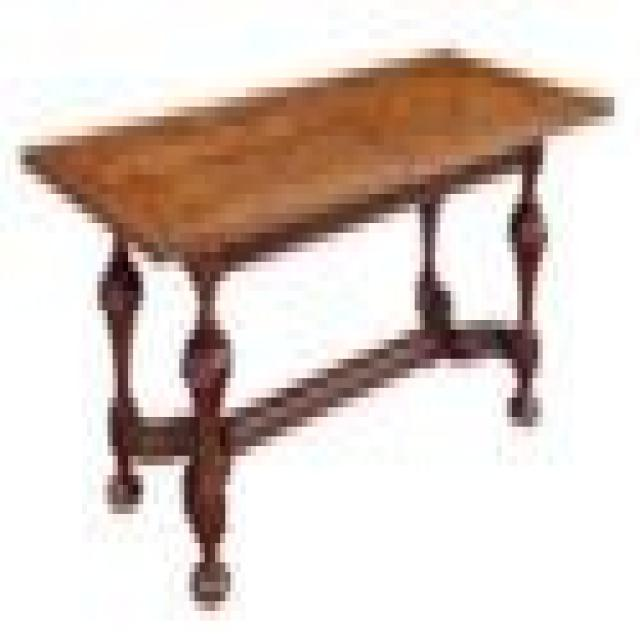table: (13, 33, 614, 615)
